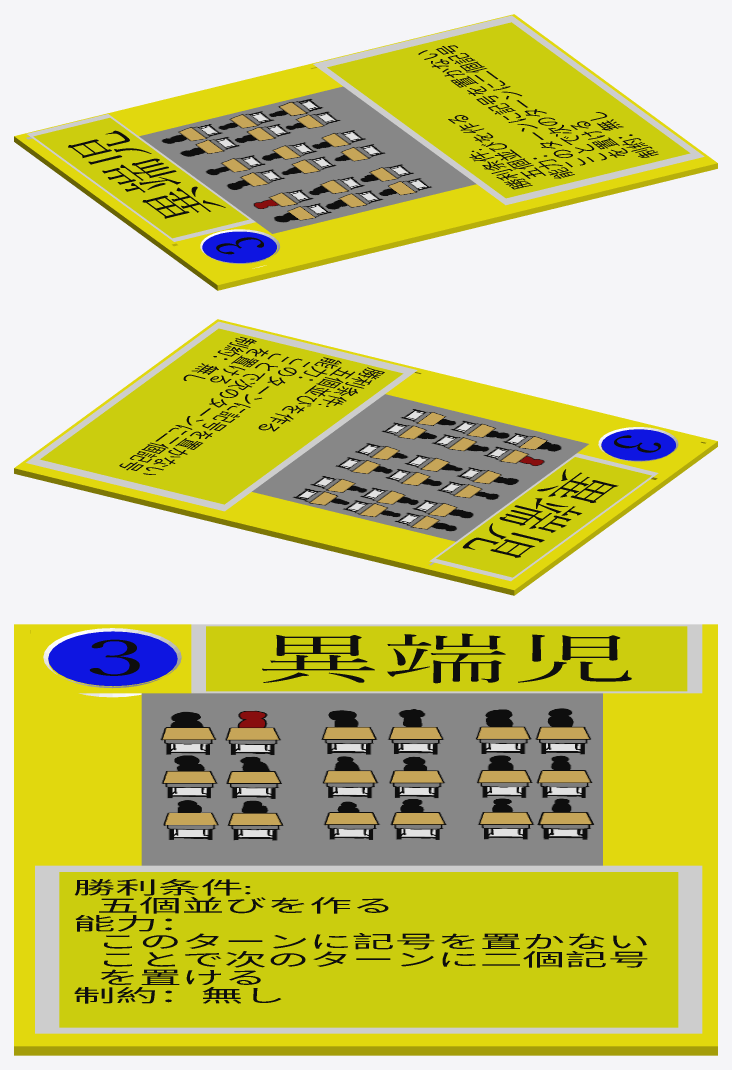
Rendered from 異端児黄.fbx.
3 renders of one model, top to bottom at view 1: azimuth 30°, elevation 25°; view 2: azimuth 150°, elevation 25°; view 3: azimuth 270°, elevation 25°, orthographic. The views are drawn at different scales.
Parts seen in each view (by area): view 1: 説明欄, 平面.001, カード本体.001, 名前欄, 説明文, 名前, 円, 平面; view 2: 説明欄, 平面.001, カード本体.001, 名前欄, 説明文, 名前, 円, 平面; view 3: 説明欄, 平面.001, カード本体.001, 名前欄, 説明文, 名前, 円, 平面, コスト蘭.
Boxes of the visible parts, x1=… form: 説明欄: x1=313, y1=15, x2=704, y2=205; 平面.001: x1=139, y1=86, x2=476, y2=233; カード本体.001: x1=14, y1=14, x2=717, y2=290; 名前欄: x1=27, y1=114, x2=255, y2=241; 説明文: x1=418, y1=45, x2=658, y2=189; 名前: x1=68, y1=130, x2=225, y2=218; 円: x1=202, y1=231, x2=276, y2=262; 平面: x1=174, y1=222, x2=302, y2=275; 説明欄: x1=26, y1=321, x2=417, y2=511; 平面.001: x1=252, y1=394, x2=588, y2=541; カード本体.001: x1=14, y1=319, x2=717, y2=595; 名前欄: x1=429, y1=453, x2=658, y2=581; 説明文: x1=119, y1=337, x2=384, y2=474; 名前: x1=462, y1=469, x2=618, y2=557; 円: x1=601, y1=429, x2=675, y2=460; 平面: x1=577, y1=419, x2=704, y2=472; 説明欄: x1=35, y1=865, x2=702, y2=1033; 平面.001: x1=141, y1=693, x2=602, y2=865; カード本体.001: x1=14, y1=624, x2=717, y2=1055; 名前欄: x1=191, y1=624, x2=702, y2=693; 説明文: x1=74, y1=879, x2=647, y2=1003; 名前: x1=262, y1=633, x2=631, y2=683; 円: x1=48, y1=631, x2=177, y2=686; 平面: x1=30, y1=624, x2=191, y2=693; コスト蘭: x1=43, y1=628, x2=181, y2=697.
Bounding box in the file's own units: 281 × 6.07 × 198.
